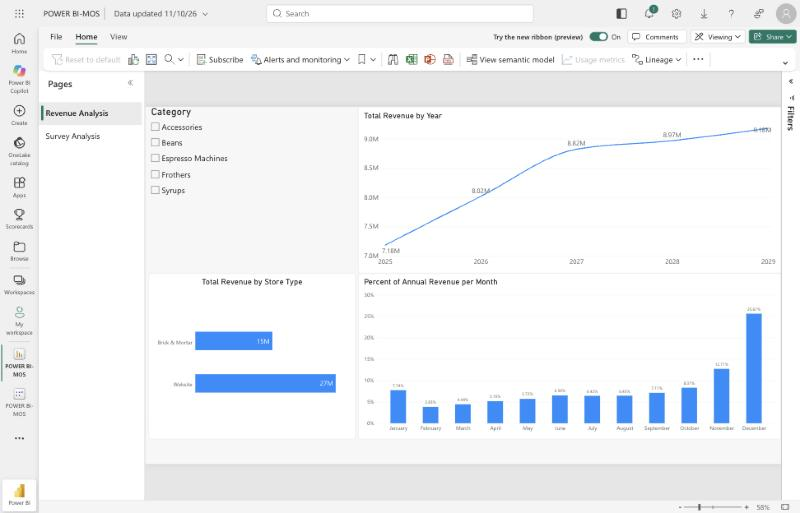

The page's visual inventory and layout, read from the dashboard file:
{"tool":"powerbi","page":{"name":"Revenue Analysis","canvas":[1920,1080],"ordinal":0},"visuals":[{"type":"barChart","title":"Total Revenue by Store Type","fields":{"Category":["E-Presso Stores.StoreType","E-Presso Stores.Market","E-Presso Stores.City"],"Y":["Sum(Sales.Revenue)"]},"box":[9.5,503.4,625.1,501],"z":0},{"type":"lineChart","title":"Total Revenue by Year","fields":{"Category":["Sales.Date.Variation.Date Hierarchy.Year"],"Y":["Sum(Sales.Revenue)"]},"box":[644.2,0,1276.5,503.4],"z":1000},{"type":"columnChart","title":"Percent of Annual Revenue per Month","fields":{"Category":["Sales.Date.Variation.Date Hierarchy.Month"],"Y":["Sum(Sales.Revenue)"]},"box":[644,503,1276,501],"z":2000},{"type":"slicer","fields":{"Values":["Categories.Category"]},"box":[10,0,625,503],"z":3000}]}

Visuals, with their boxes on the page's 1920x1080 design canvas (x1, y1, x2, y2). These are canvas units, not pixel positions in the 800x513 screenshot, which may show the page scaled, cropped or inside an application window:
"Total Revenue by Store Type" barChart: crop(10, 503, 635, 1004)
"Total Revenue by Year" lineChart: crop(644, 0, 1921, 503)
"Percent of Annual Revenue per Month" columnChart: crop(644, 503, 1920, 1004)
slicer - Categories.Category: crop(10, 0, 635, 503)
